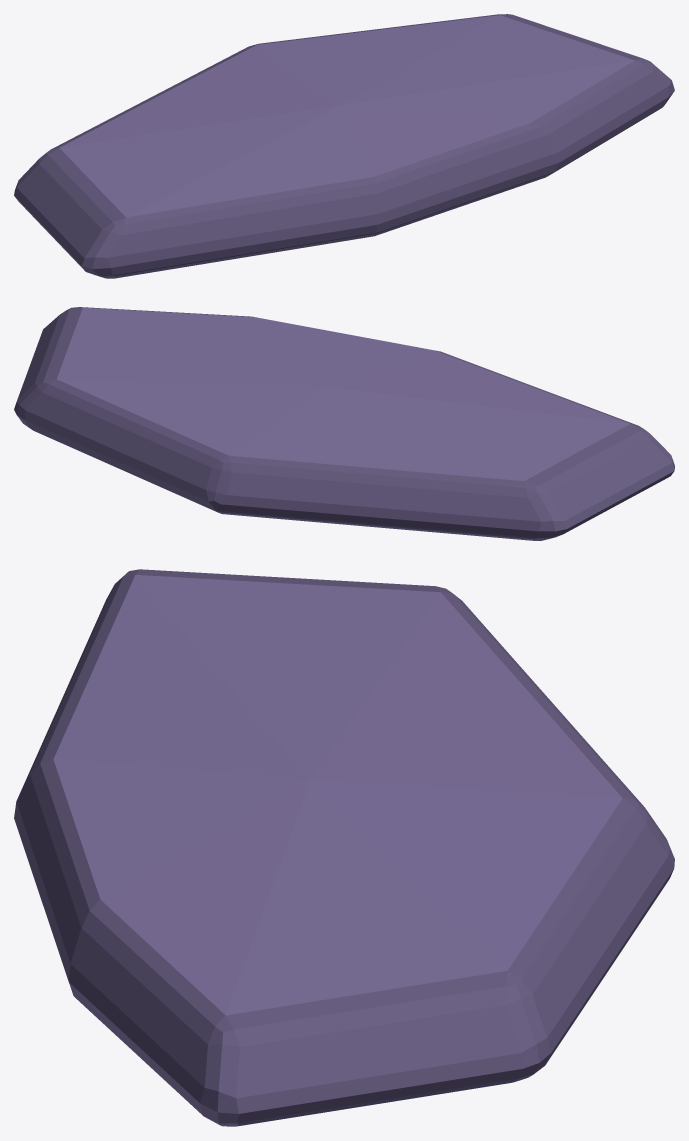
Rendered from flat_shard_01.glb.
3 views of the same model, one above another, from view 1: azimuth 30°, elevation 25°; view 2: azimuth 150°, elevation 25°; view 3: azimuth 270°, elevation 25° (orthographic). The views are drawn at different scales.
Parts seen in each view (by area): view 1: flat_shard_01; view 2: flat_shard_01; view 3: flat_shard_01.
Boxes of the visible parts, x1=… form: flat_shard_01: x1=14, y1=14, x2=674, y2=278; flat_shard_01: x1=14, y1=307, x2=674, y2=540; flat_shard_01: x1=14, y1=569, x2=674, y2=1126.
Size of the model in its own units: 0.7622 by 0.0796 by 0.4053.
